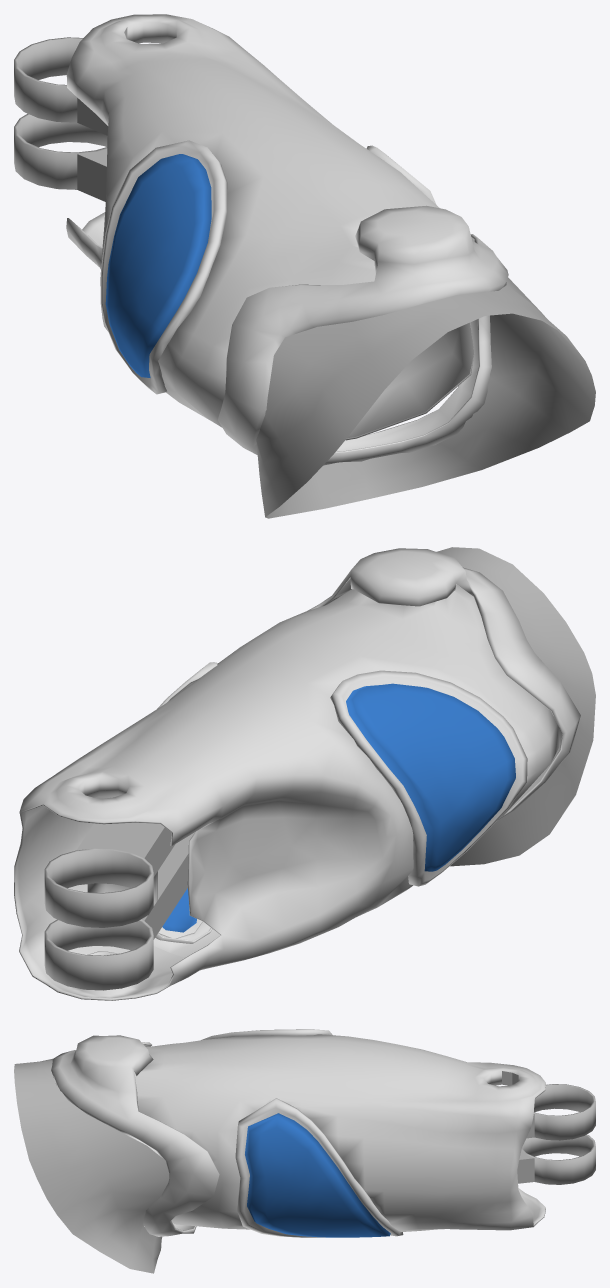
The model's file is LHipPitch.dae.
3 renders of one model, top to bottom at view 1: azimuth 30°, elevation 25°; view 2: azimuth 150°, elevation 25°; view 3: azimuth 270°, elevation 25°, orthographic. The views are drawn at different scales.
Parts seen in each view (by area): view 1: LHipPitch, Object002_skip; view 2: LHipPitch, Object002_skip; view 3: LHipPitch, Object002_skip.
Boxes of the visible parts, x1,y1,x2,y2 form: LHipPitch: (66, 14, 595, 518); Object002_skip: (14, 37, 108, 201); LHipPitch: (14, 547, 595, 1000); Object002_skip: (44, 797, 194, 990); LHipPitch: (14, 1029, 545, 1273); Object002_skip: (517, 1084, 595, 1184).
Size of the model in its own units: 0.1968 by 0.1641 by 0.4386.
